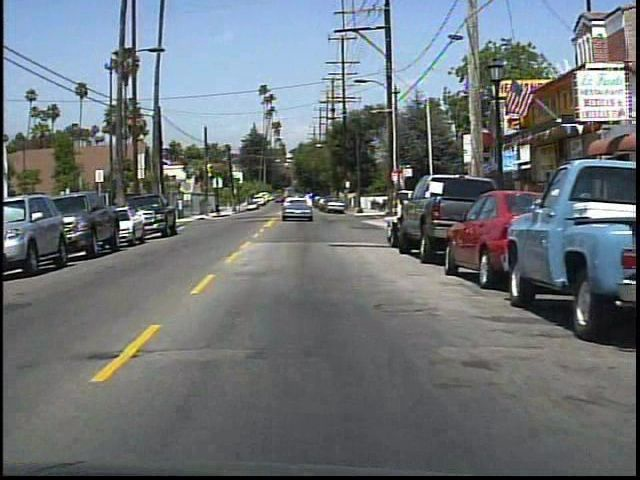person: (543, 177, 571, 242)
